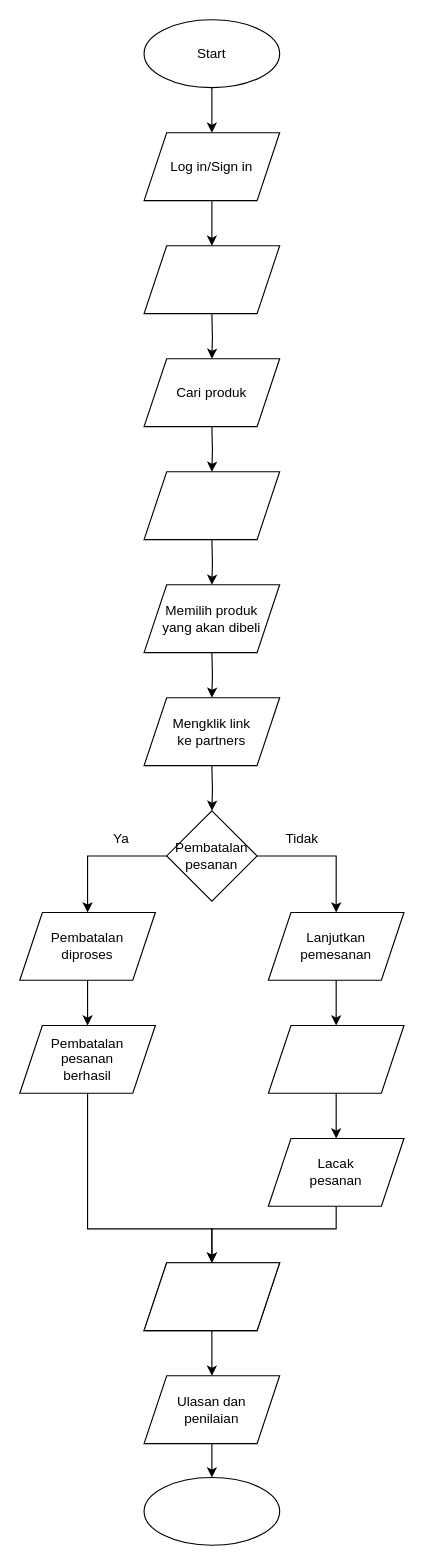
Some shapes in this 424 by 1565 pixel diagram are drawn without their labels. The centre of each missing label's shape, as x and y in pixels:
Dashboard: point (211, 279)
End: point (211, 1510)
Interaksi dengan penjual: point (211, 1296)
Melihat detail produk: point (211, 505)
Pemesanan diproses: point (335, 1058)
